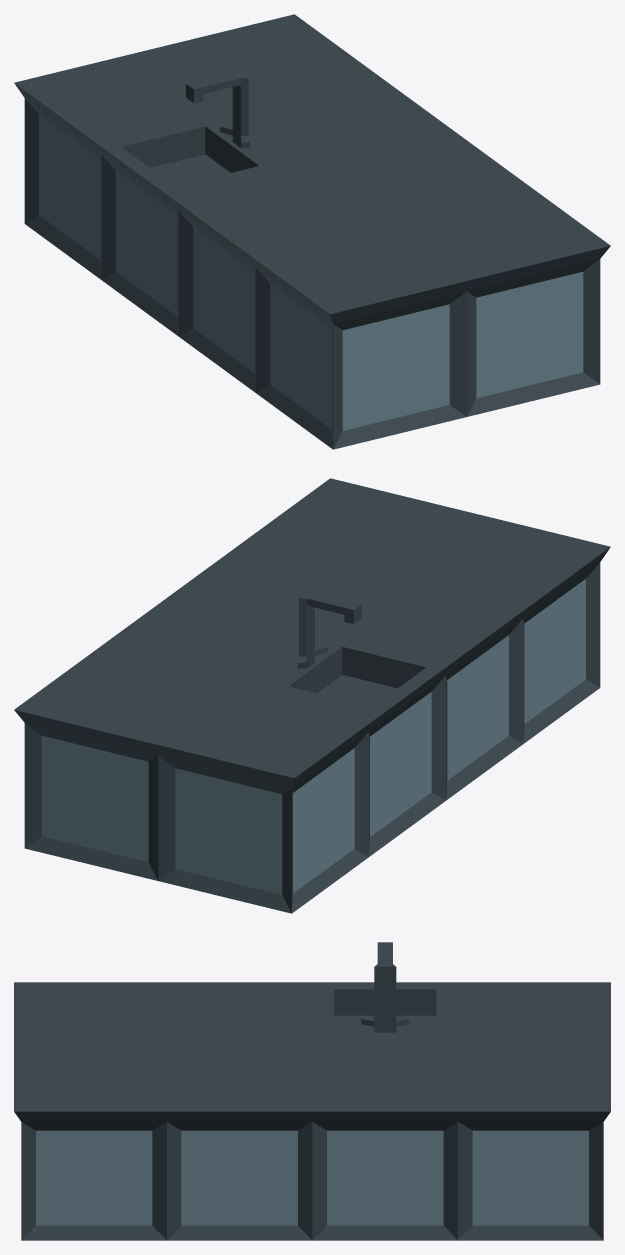
The model's file is KitchenTable.fbx.
3 views of the same model, one above another, from view 1: azimuth 30°, elevation 25°; view 2: azimuth 150°, elevation 25°; view 3: azimuth 270°, elevation 25° (orthographic). The views are drawn at different scales.
Parts seen in each view (by area): view 1: Kitchen Table; view 2: Kitchen Table; view 3: Kitchen Table.
Part boxes in pixels (x1=…): Kitchen Table: x1=14, y1=14, x2=610, y2=449; Kitchen Table: x1=14, y1=478, x2=610, y2=913; Kitchen Table: x1=14, y1=942, x2=610, y2=1240.
Bounding box in the file's own units: 420 × 300 × 820.
Materials: 1 (1 with a texture image).
